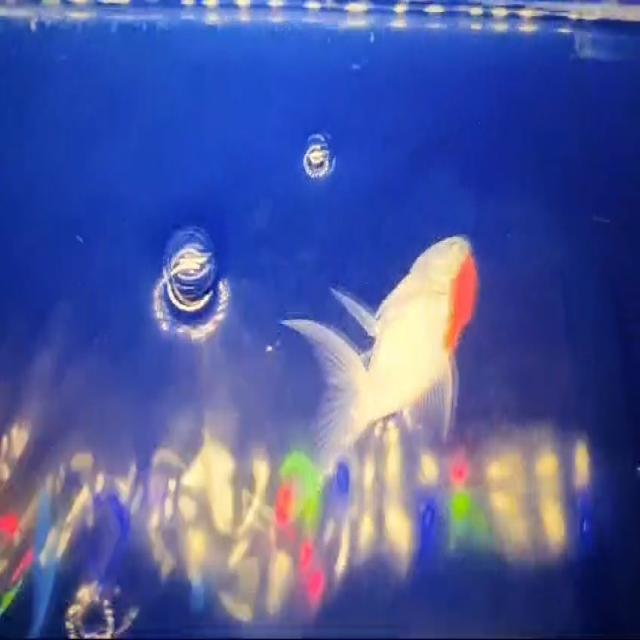fish: (282, 224, 488, 483)
